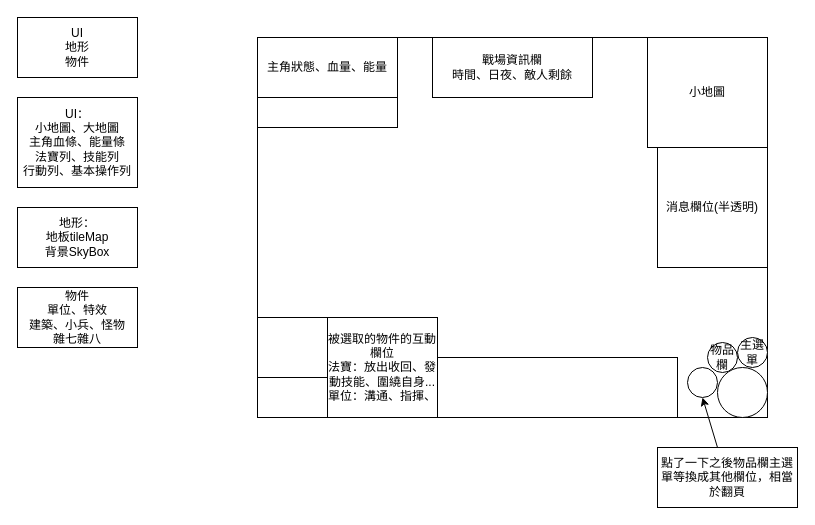
Image size: 815x525. Some labels were removed from this diagram. The box of each missing label's shape, as (x1, y1, x2, y2) in pixels:
其他欄位: (686, 366, 718, 398)
快捷欄位，法寶+技能: (436, 356, 678, 418)
暫停: (716, 366, 768, 418)
被選取單位的基本資訊: (256, 376, 328, 418)
被選取單位的縮圖: (256, 316, 328, 378)
額外狀態(昏迷、定身): (256, 96, 398, 128)
